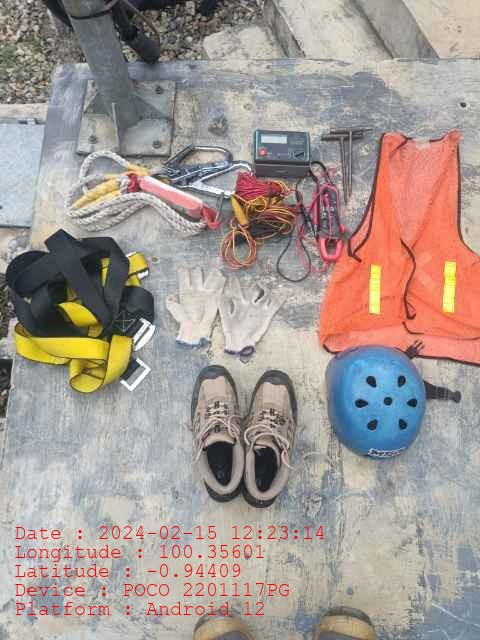HELM: (324, 346, 425, 462)
ROMPI: (329, 127, 480, 347)
SARUNG_TANGAN: (218, 275, 283, 356), (162, 266, 223, 346)
SEPATU: (191, 365, 297, 507)
TAMBANG_SLING: (65, 144, 227, 232)
